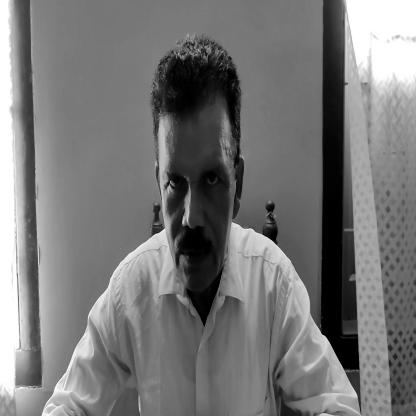Normal: (154, 47, 246, 297)
